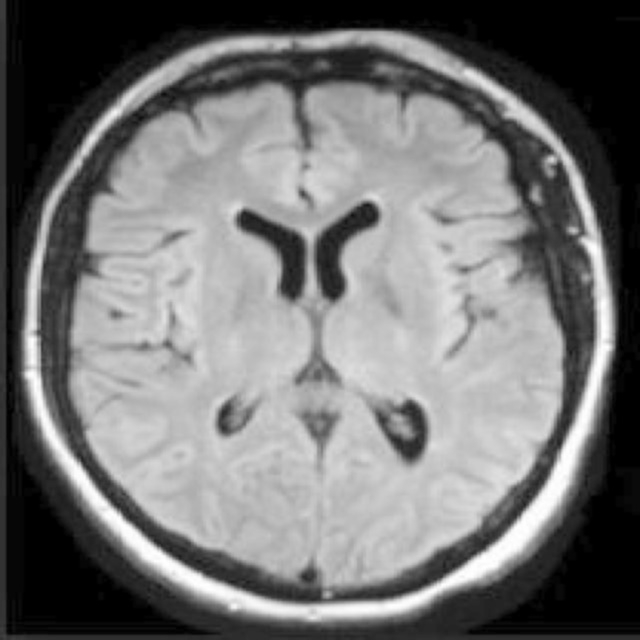glioma tumor: (102, 96, 483, 550)
